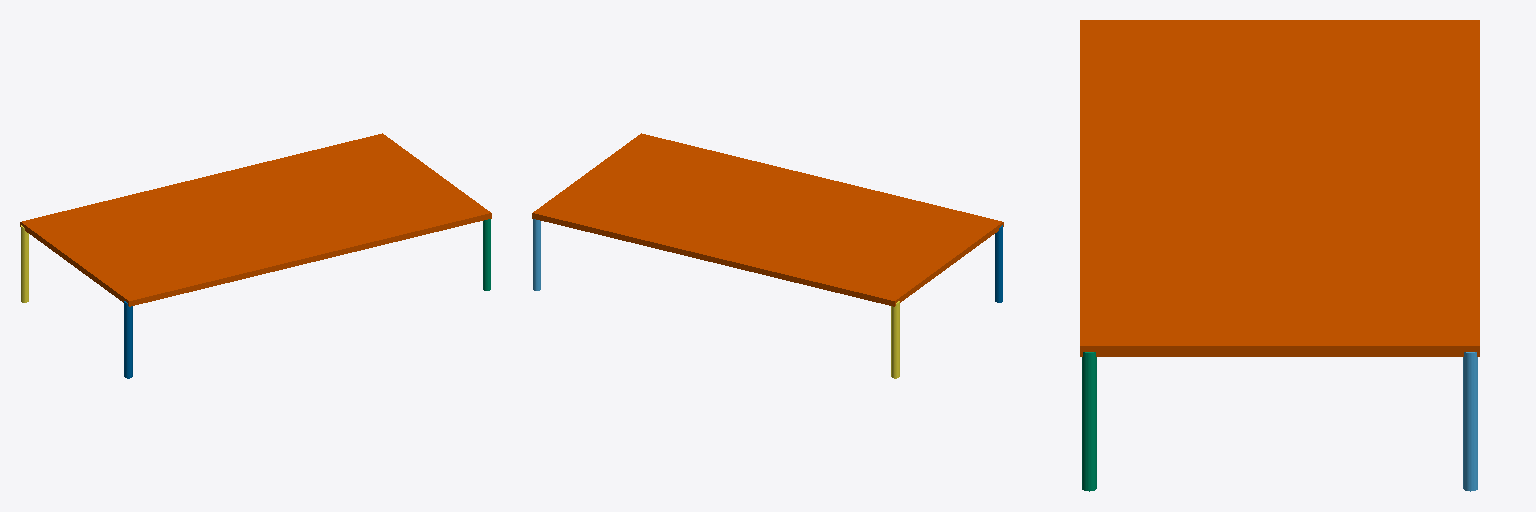
robot.urdf — table:
<?xml version='1.0'?>
<robot name="table">

<link name="world"/>

<joint name = "joint_fix_1" type = "fixed">
  <parent link="world"/>
  <child link = "front_left_leg"/>
</joint>


<link name ="front_left_leg">
  <collision>
    <origin xyz="1.0 0.5 0" rpy="0 0 0"/>
    <geometry>
      <cylinder length="0.4" radius="0.02"/>
    </geometry>
  </collision>

  <visual>
    <origin xyz="1.0 0.5 0" rpy="0 0 0"/>
    <geometry>
      <cylinder length="0.4" radius="0.02"/>
    </geometry>
  </visual>

  <inertial>
    <origin xyz="1.0 0.5 0" rpy="0 0 0"/>
    <mass value="0.05" />
    <inertia
      ixx="0.001" ixy="0.0"  ixz="0.0"
      iyy="0.001" iyz="0.0"
      izz="0.001" />
  </inertial>
</link>

<joint name = "joint_fix_2" type = "fixed">
  <parent link="world"/>
  <child link = "front_right_leg"/>
</joint>


<link name ="front_right_leg">
  <collision>
    <origin xyz="1.0 -0.5 0" rpy="0 0 0"/>
    <geometry>
      <cylinder length="0.4" radius="0.02"/>
    </geometry>
  </collision>

  <visual>
    <origin xyz="1.0 -0.5 0" rpy="0 0 0"/>
    <geometry>
      <cylinder length="0.4" radius="0.02"/>
    </geometry>
  </visual>

  <inertial>
    <origin xyz="1.0 -0.5 0" rpy="0 0 0"/>
    <mass value="0.05" />
    <inertia
      ixx="0.001" ixy="0.0"  ixz="0.0"
      iyy="0.001" iyz="0.0"
      izz="0.001" />
  </inertial>
</link>

<joint name = "joint_fix_3" type = "fixed">
  <parent link="world"/>
  <child link = "back_left_leg"/>
</joint>


<link name ="back_left_leg">
  <collision>
    <origin xyz="-1.0 0.5 0" rpy="0 0 0"/>
    <geometry>
      <cylinder length="0.4" radius="0.02"/>
    </geometry>
  </collision>

  <visual>
    <origin xyz="-1.0 0.5 0" rpy="0 0 0"/>
    <geometry>
      <cylinder length="0.4" radius="0.02"/>
    </geometry>
  </visual>

  <inertial>
    <origin xyz="-1.0 0.5 0" rpy="0 0 0"/>
    <mass value="0.05" />
    <inertia
      ixx="0.001" ixy="0.0"  ixz="0.0"
      iyy="0.001" iyz="0.0"
      izz="0.001" />
  </inertial>
</link>

<joint name = "joint_fix_4" type = "fixed">
  <parent link="world"/>
  <child link = "back_right_leg"/>
</joint>


<link name ="back_right_leg">
  <collision>
    <origin xyz="-1.0 -0.5 0" rpy="0 0 0"/>
    <geometry>
      <cylinder length="0.4" radius="0.02"/>
    </geometry>
  </collision>

  <visual>
    <origin xyz="-1.0 -0.5 0" rpy="0 0 0"/>
    <geometry>
      <cylinder length="0.4" radius="0.02"/>
    </geometry>
  </visual>

  <inertial>
    <origin xyz="-1.0 -0.5 0" rpy="0 0 0"/>
    <mass value="0.05" />
    <inertia
      ixx="0.001" ixy="0.0"  ixz="0.0"
      iyy="0.001" iyz="0.0"
      izz="0.001" />
  </inertial>
</link>

<joint name= "surface" type="fixed">
	<parent link="back_right_leg"/>
	<child link="tabletop"/>
</joint>

<link name ="tabletop">
  <collision>
    <origin xyz="0 0 0.2" rpy="0 0 0"/>
    <geometry>
      <box size="2.02 1.05 0.03"/>
    </geometry>
  </collision>

  <visual>
    <origin xyz="0 0 0.2" rpy="0 0 0"/>
    <geometry>
      <box size="2.02 1.05 0.03"/>
    </geometry>
  </visual>

  <inertial>
    <origin xyz="0 0 0.2" rpy="0 0 0"/>
    <mass value="0.05" />
    <inertia
      ixx="0.001" ixy="0.0"  ixz="0.0"
      iyy="0.001" iyz="0.0"
      izz="0.001" />
  </inertial>
</link>

<gazebo reference="front_left_leg">
	<material>Gazebo/Grey</material>
</gazebo>

<gazebo reference="front_right_leg">
	<material>Gazebo/Grey</material>
</gazebo>

<gazebo reference="back_left_leg">
	<material>Gazebo/Grey</material>
</gazebo>

<gazebo reference="back_right_leg">
	<material>Gazebo/Grey</material>
</gazebo>

<gazebo reference="tabletop">
	<material>Gazebo/Black</material>
</gazebo>

<gazebo>
	<static>true</static>
</gazebo>

</robot>

--- Render facts (derived) ---
3 views of the same robot in one strip: view 1: azimuth 30°, elevation 25°; view 2: azimuth 150°, elevation 25°; view 3: azimuth 270°, elevation 25° (orthographic).
Model table with 6 links and 5 joints (5 fixed), rooted at world, posed all joints at 0.
Links seen in each view (by area): view 1: tabletop, back_right_leg, back_left_leg, front_right_leg; view 2: tabletop, back_left_leg, back_right_leg, front_left_leg; view 3: tabletop, front_left_leg, front_right_leg.
Link boxes in pixels (left/top/right/bottom): tabletop: left=20, top=133, right=491, bottom=306; back_right_leg: left=124, top=301, right=132, bottom=378; back_left_leg: left=21, top=225, right=28, bottom=302; front_right_leg: left=483, top=219, right=490, bottom=290; tabletop: left=532, top=133, right=1003, bottom=306; back_left_leg: left=891, top=301, right=899, bottom=378; back_right_leg: left=995, top=225, right=1002, bottom=302; front_left_leg: left=533, top=219, right=540, bottom=290; tabletop: left=1080, top=20, right=1479, bottom=356; front_left_leg: left=1463, top=352, right=1477, bottom=491; front_right_leg: left=1082, top=352, right=1096, bottom=491.
Size in the robot's own frame: 2.04 by 1.05 by 0.415 metres.
Geometry: primitives only (box / cylinder / sphere), no mesh files.
